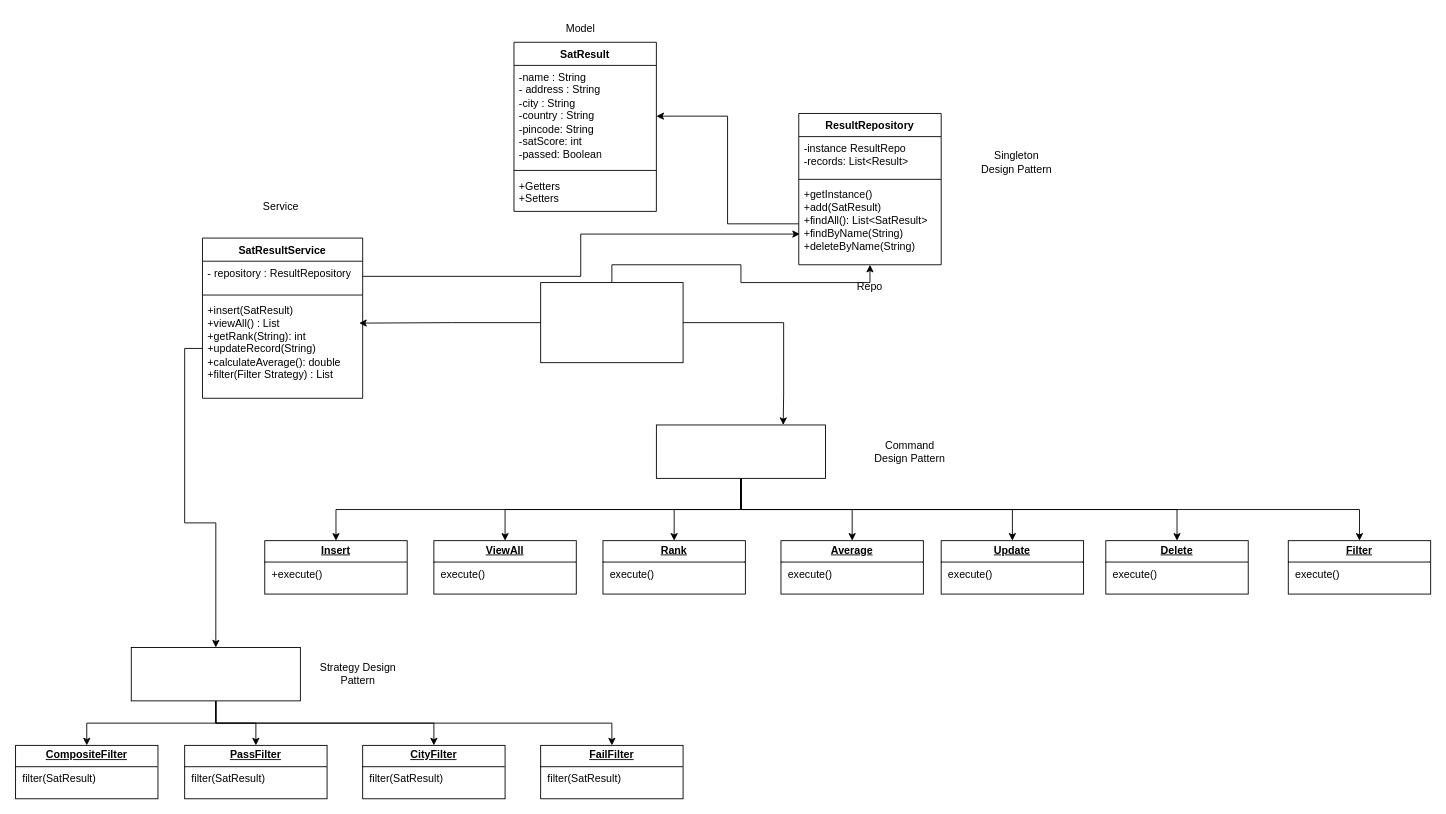
The diagram is 1446 pixels wide and 814 high, and some of its shapes have lost their labels. Here are the shapes that lost their labels. From the top down, the centre of each, then its label:
At [611,322]: "Menu -menu : Map<int,Command> + main(String[])".
At [740,451]: "<<Interface>> Command + execute()".
At [215,674]: "<<Interface>> Filter Strategy + filter(SatResult) : bool".
